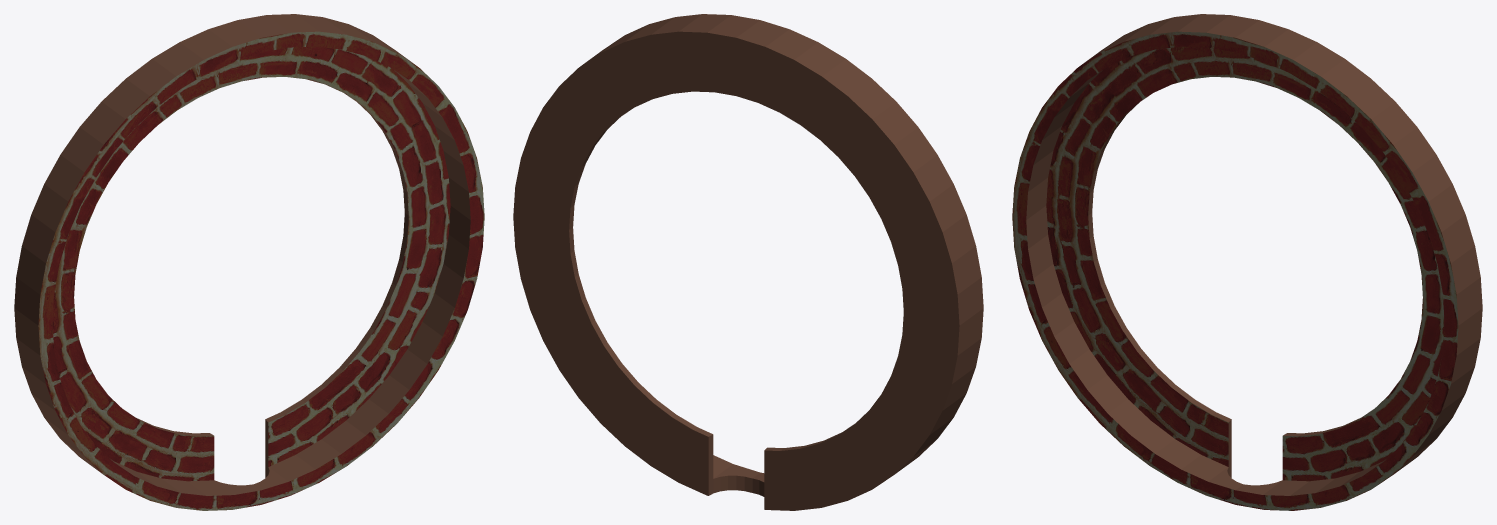
Rendered from pool_000.obj.
3 views of the same model, side by side, from view 1: azimuth 30°, elevation 25°; view 2: azimuth 150°, elevation 25°; view 3: azimuth 330°, elevation 25° (orthographic).
Bounding box in the file's own units: 32 × 32 × 3.
Materials: 1 (1 with a texture image).
